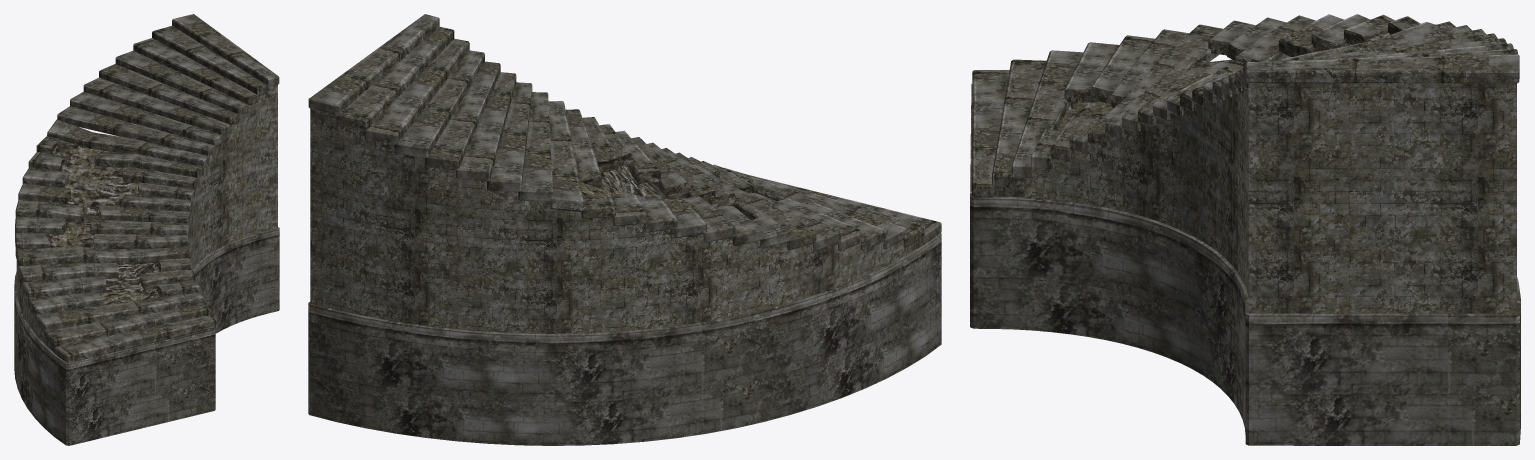
The model's file is TW2_9_TARRACE_02_22-transformed.glb.
The picture shows the model from 3 angles, left to right: view 1: azimuth 30°, elevation 25°; view 2: azimuth 150°, elevation 25°; view 3: azimuth 270°, elevation 25°; orthographic projection. The views are drawn at different scales.
Visible parts, largest first — view 1: default; view 2: default; view 3: default.
Part boxes in pixels (x1,y1,x2,y2): default: (14,14,279,445); default: (308,14,941,445); default: (970,14,1520,445).
Bounding box in the file's own units: 8.02 × 6 × 8.
Materials: 3 (3 with a texture image).
